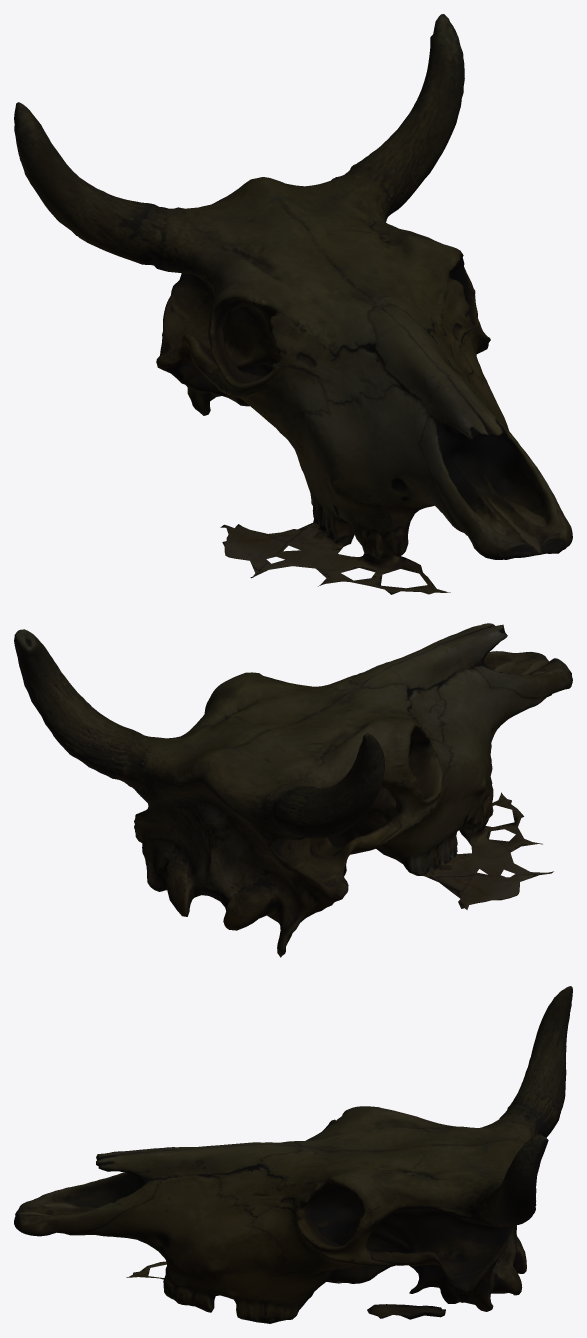
File: model_obj-KrasNem.glb
3 renders of one model, top to bottom at view 1: azimuth 30°, elevation 25°; view 2: azimuth 150°, elevation 25°; view 3: azimuth 270°, elevation 25°, orthographic. The views are drawn at different scales.
Parts seen in each view (by area): view 1: Node1; view 2: Node1; view 3: Node1.
Part boxes in pixels (x1,y1,x2,y2): Node1: [14, 14, 572, 594]; Node1: [14, 623, 572, 957]; Node1: [14, 986, 572, 1323].
Bounding box in the file's own units: 0.3411 × 0.2528 × 0.5095.
1 material, 1 textured.
